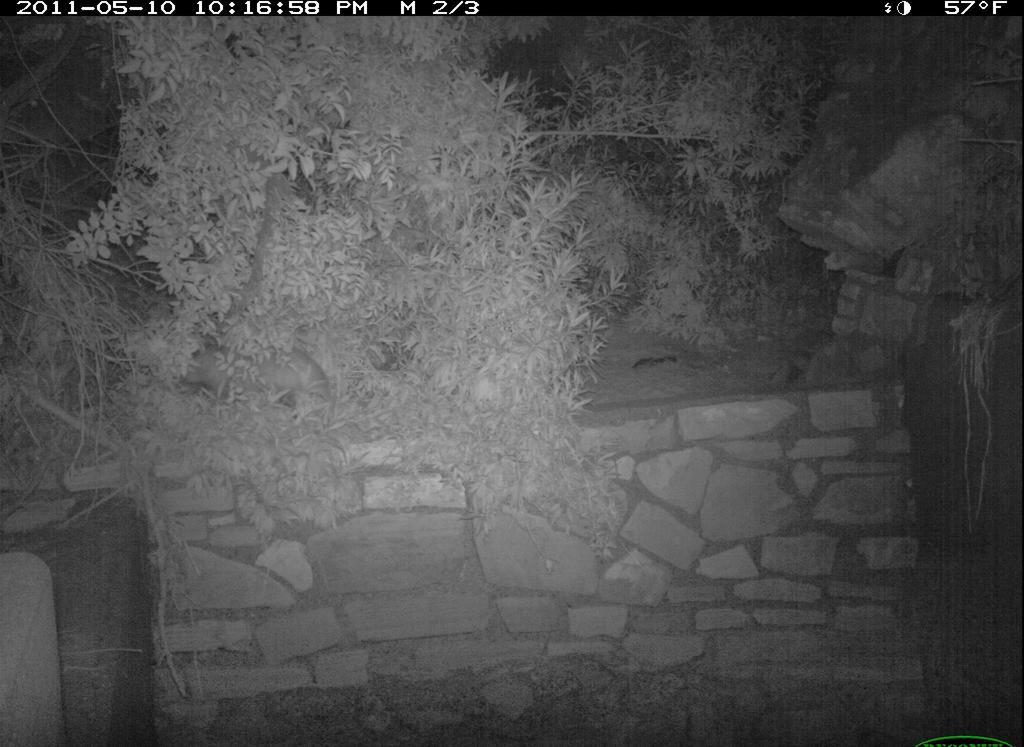opossum: (171, 338, 340, 422)
